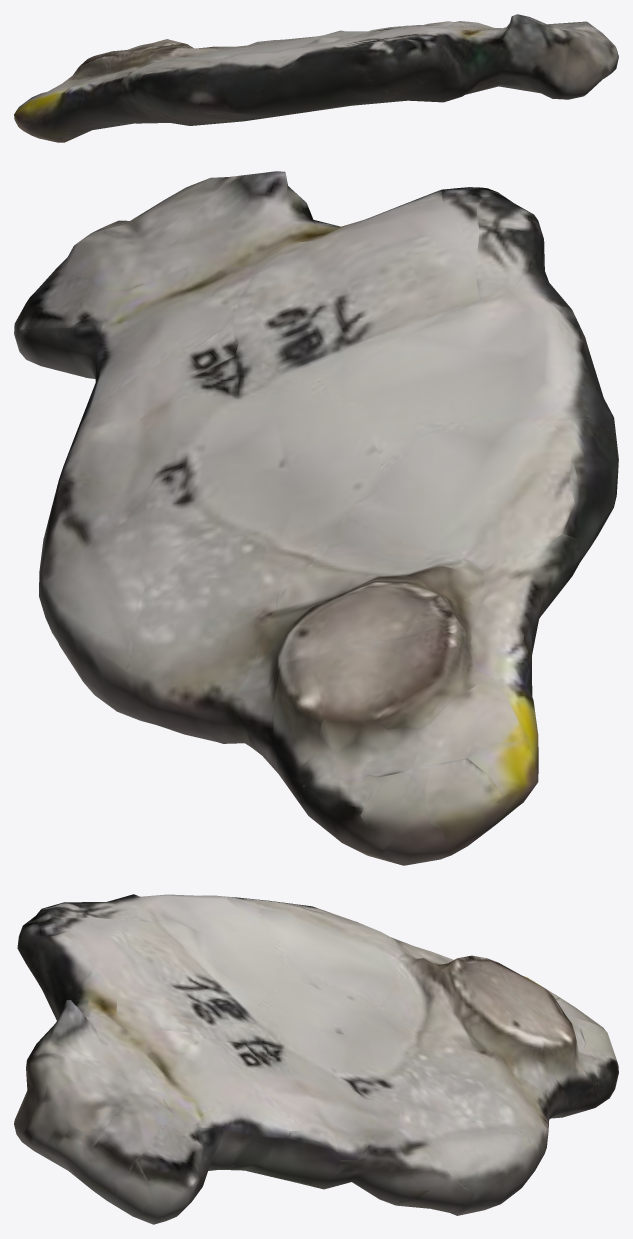
The model's file is hall.glb.
3 renders of one model, top to bottom at view 1: azimuth 30°, elevation 25°; view 2: azimuth 150°, elevation 25°; view 3: azimuth 270°, elevation 25°, orthographic. The views are drawn at different scales.
Bounding box in the file's own units: 0.4934 × 0.2218 × 0.434.
1 material, 1 textured.
